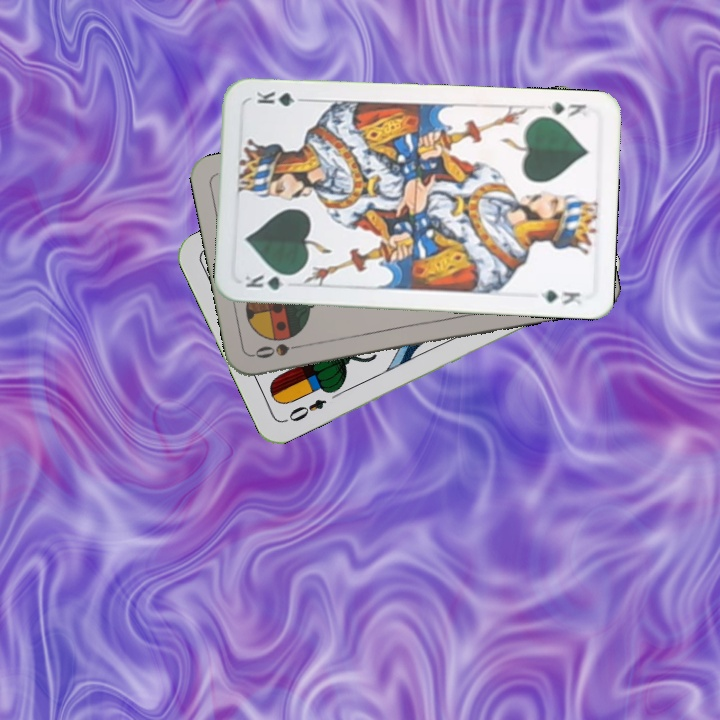EO: (280, 395, 329, 425)
GK: (241, 270, 298, 293), (542, 98, 588, 121)
SO: (250, 339, 309, 361)
